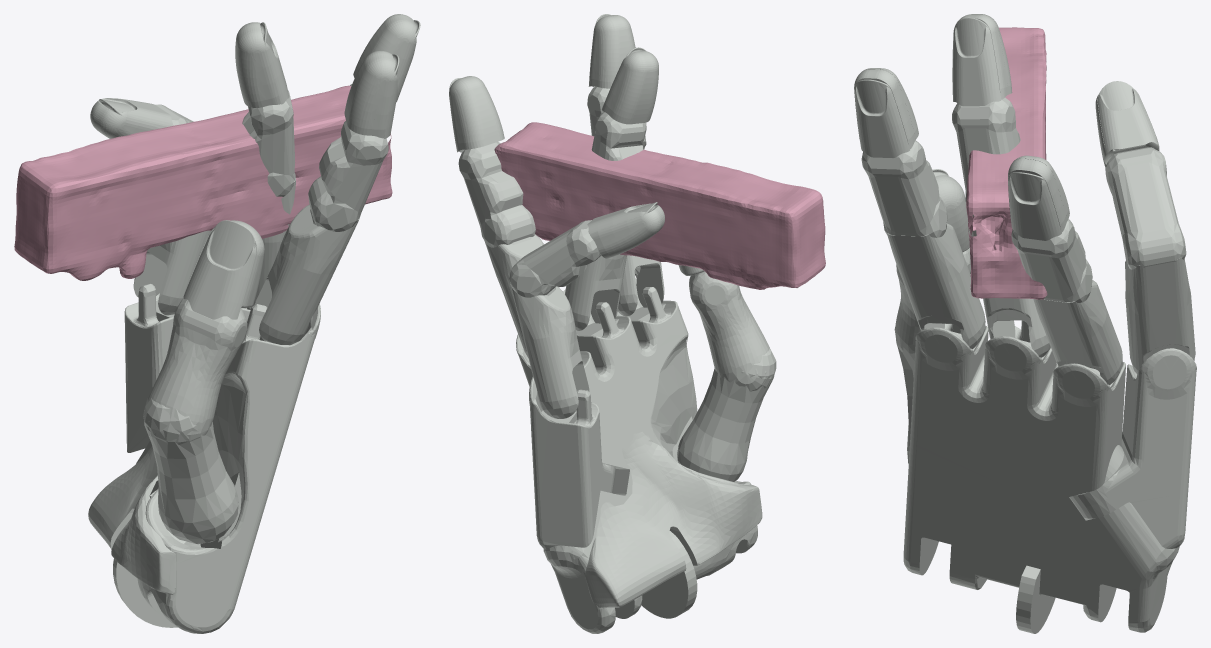
The picture shows the model from 3 angles, left to right: view 1: azimuth 30°, elevation 25°; view 2: azimuth 150°, elevation 25°; view 3: azimuth 270°, elevation 25°; orthographic projection. The views are drawn at different scales.
Parts seen in each view (by area): view 1: hand, world; view 2: hand, world; view 3: hand, world.
Part boxes in pixels (x1=…): hand: x1=88, y1=14, x2=420, y2=633; world: x1=14, y1=85, x2=392, y2=280; hand: x1=449, y1=14, x2=776, y2=633; world: x1=494, y1=122, x2=825, y2=289; hand: x1=854, y1=14, x2=1196, y2=633; world: x1=966, y1=27, x2=1047, y2=299.
Size of the model in its own units: 0.1478 by 0.2145 by 0.1042.
